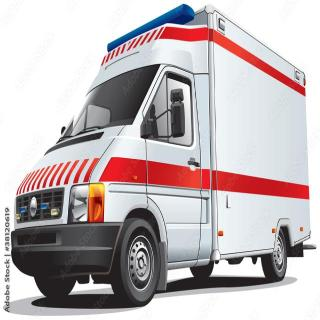Ambulance: (11, 3, 314, 307)
